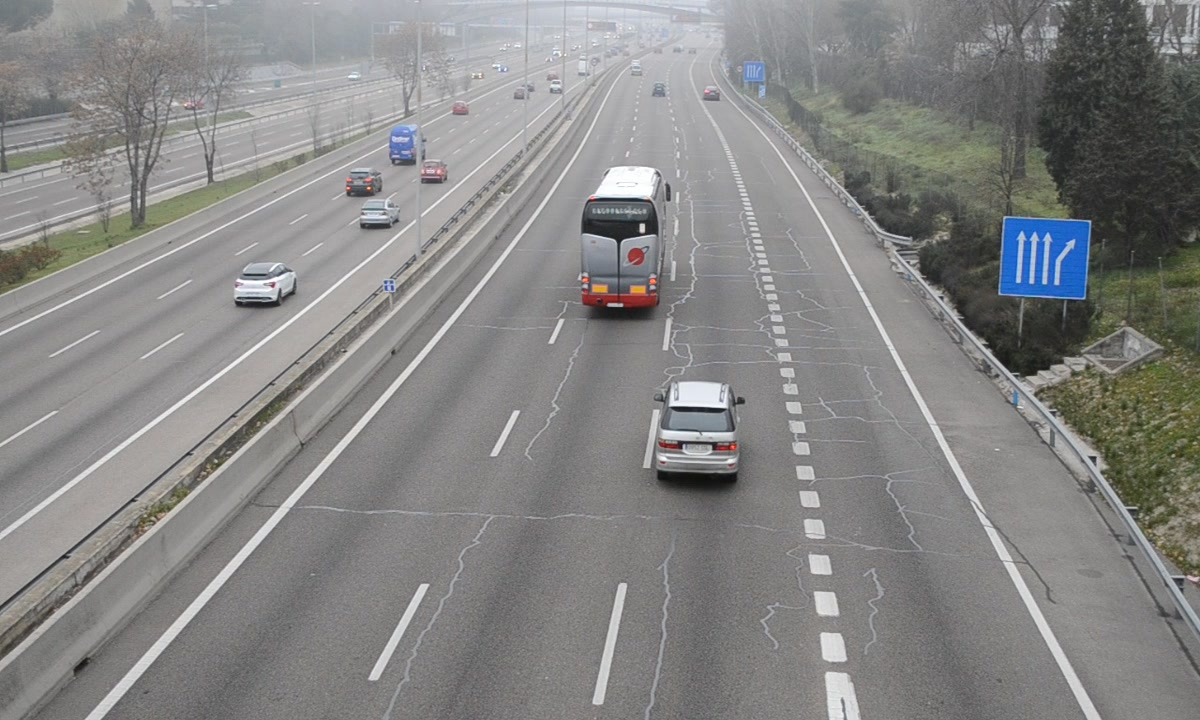bus: (579, 167, 666, 315)
car: (651, 380, 741, 477)
